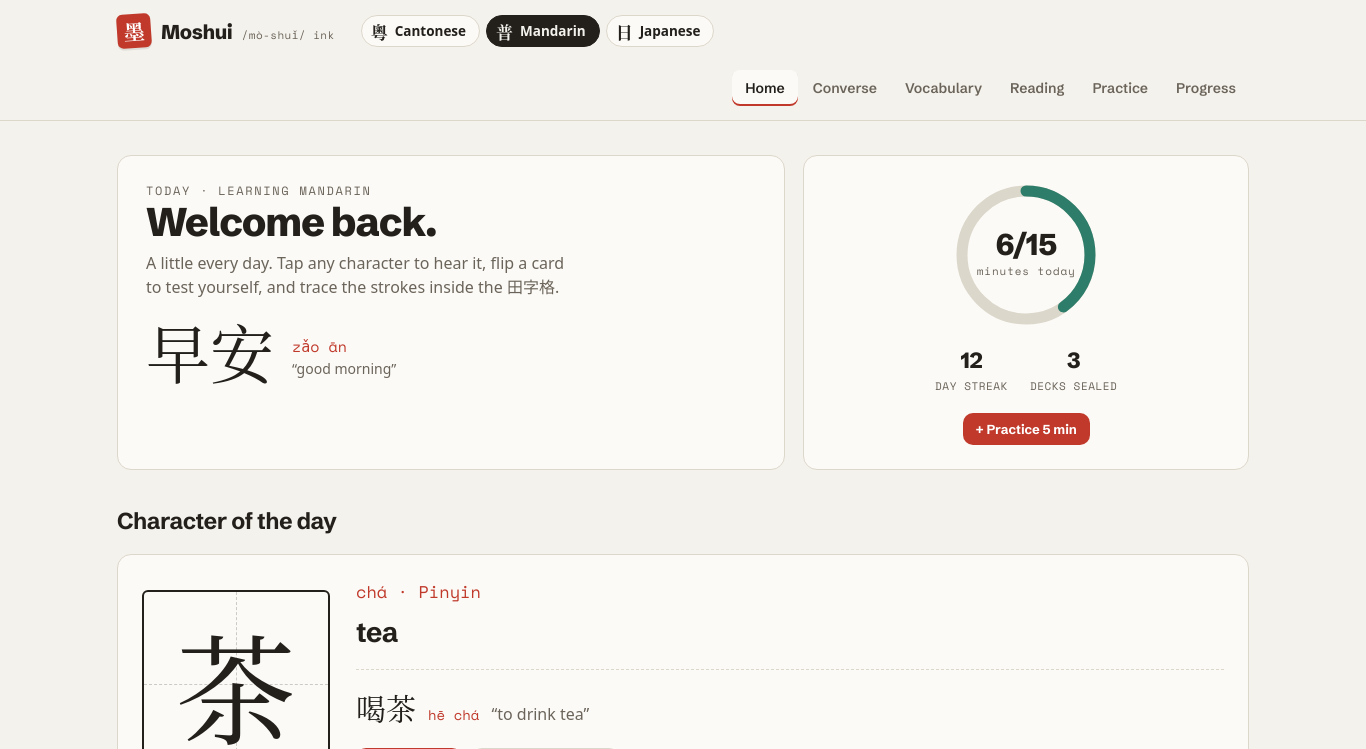
Test: reading expansion + romanization preference (T6) › offers the new graded passages with a comprehension question
The image size is (1366, 749).
Click the button "Reading". click: (1037, 88)
box: [997,70,1077,106]
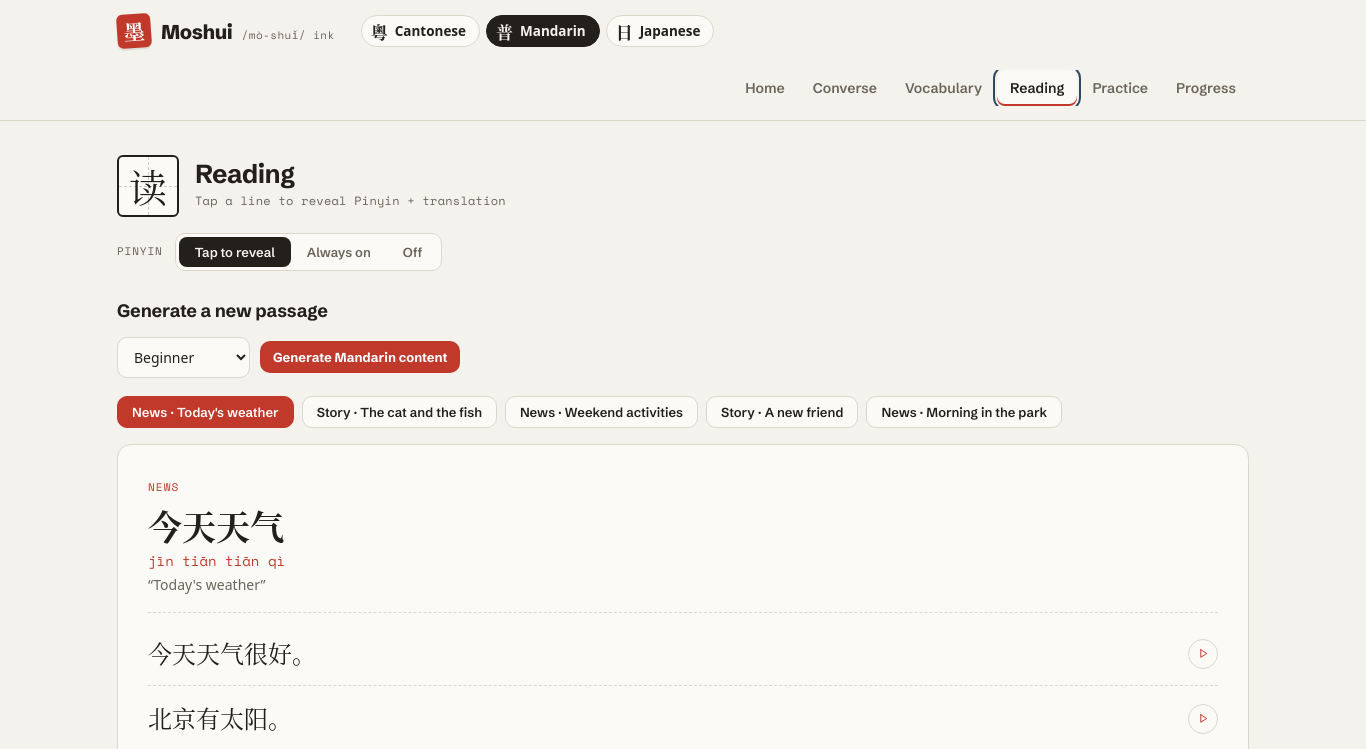
Click the button "News · Weekend activities". click: (601, 412)
box: [505,396,698,428]
(page scrolled)
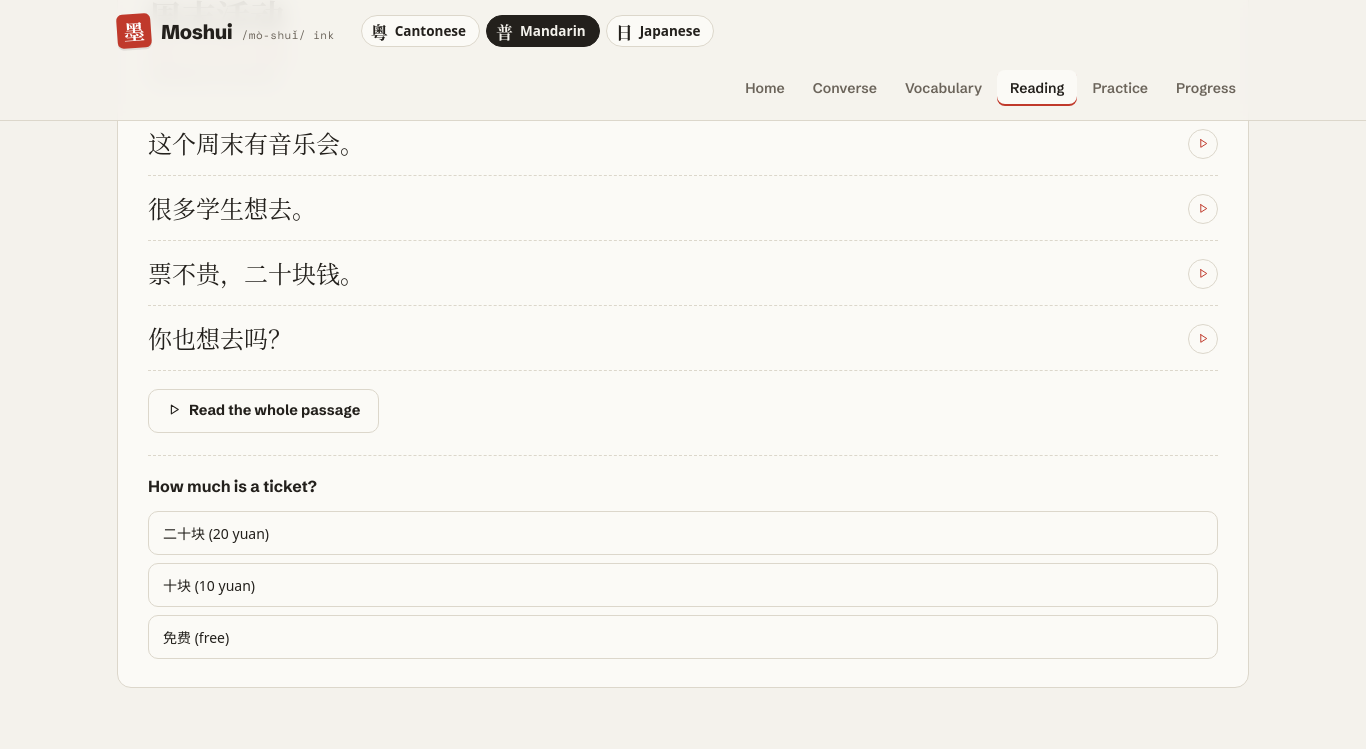
Result: the text "How much is a ticket?" is shown at [148,476,317,496]
Click the button "二十块 (20 yuan)". click: (216, 534)
box: [148,511,1218,555]
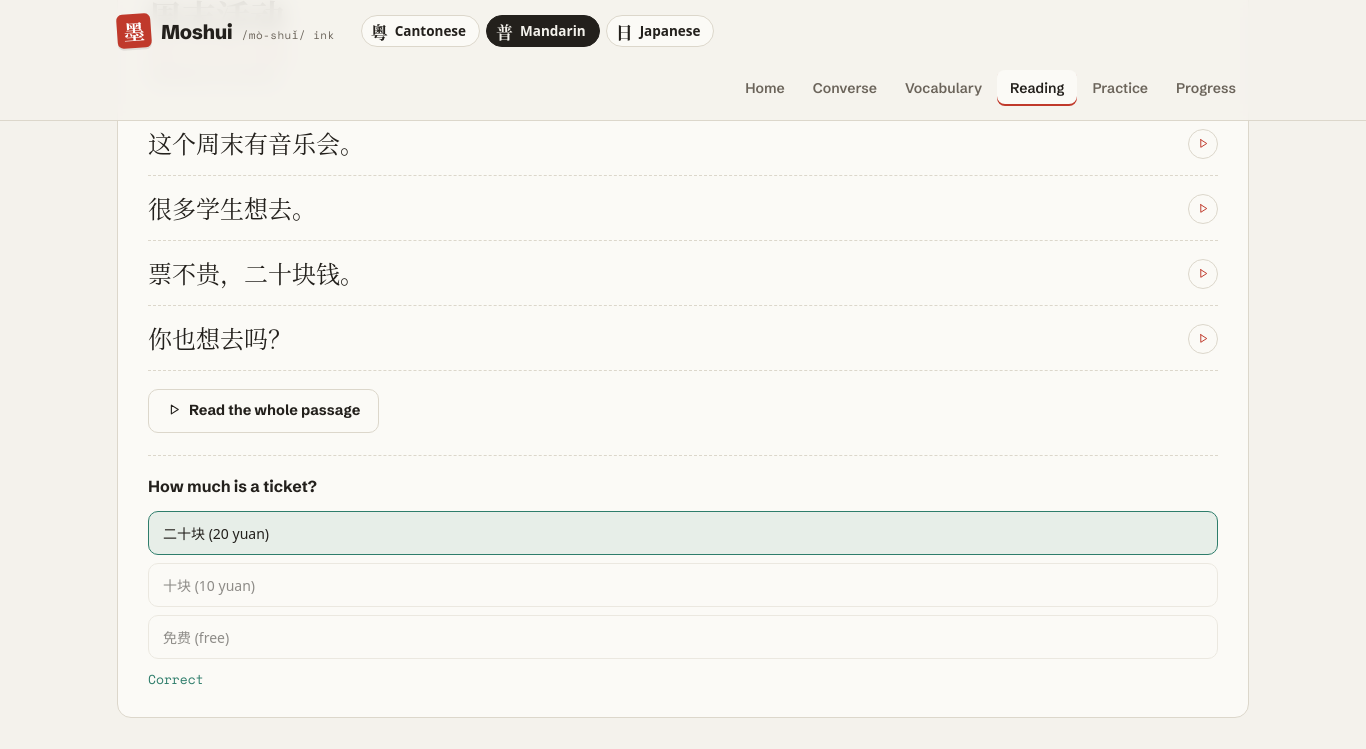
Result: the text "Correct" is shown at [148,669,204,689]
